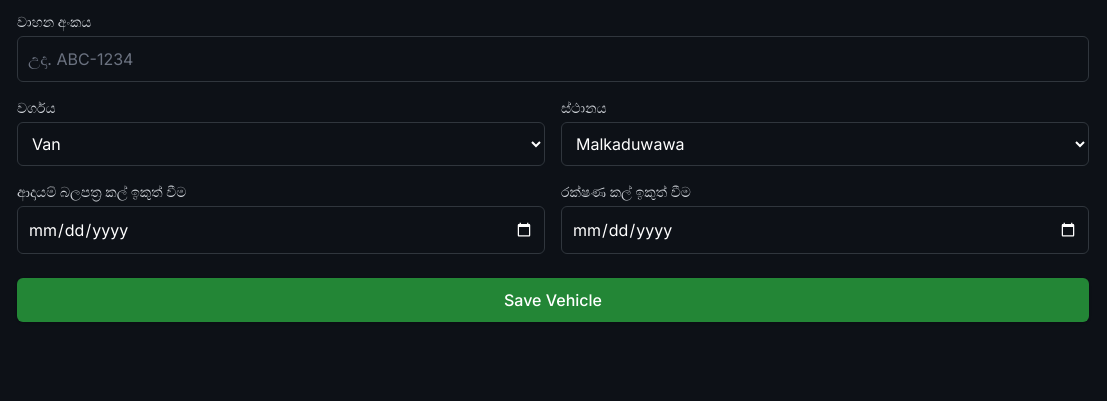
it: VehicleForm › submits form and shows success message
Type "ABC-123" into the field labelled "වාහන අංකය".
click(553, 59); type("ABC-123")  # box x1=17 y1=36 x2=1089 y2=82
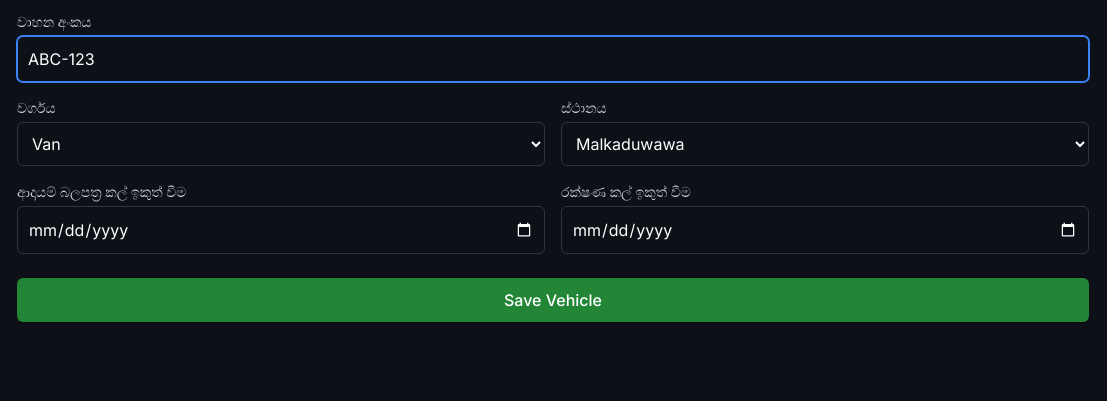
Click the button "Save Vehicle".
click(553, 300)  # box x1=17 y1=278 x2=1089 y2=322
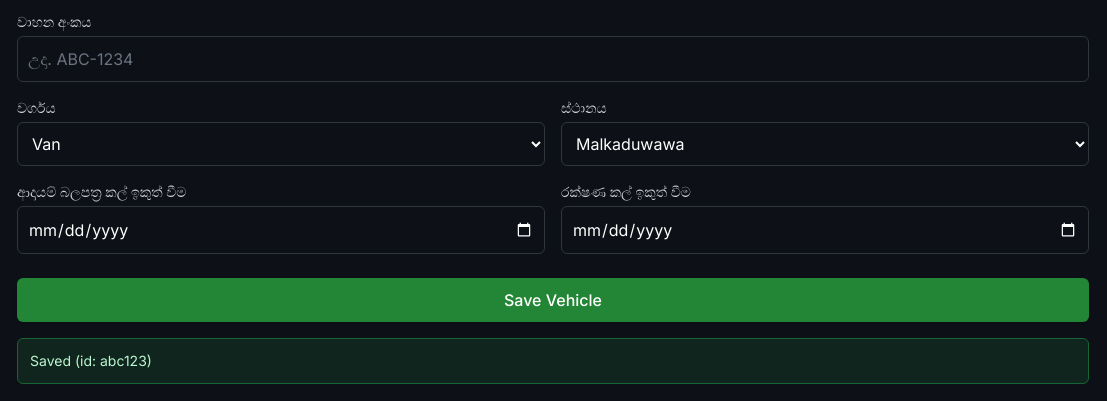
Now the text "Saved (id: abc123)" is shown, box x1=17 y1=338 x2=1089 y2=384
